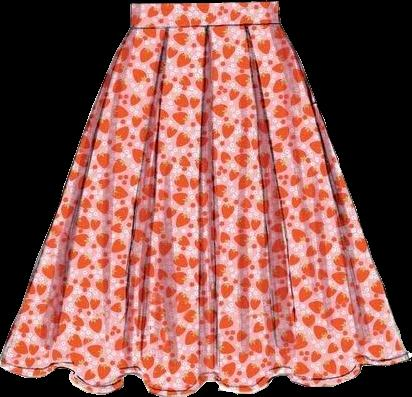Hemline: (0, 356, 411, 396)
Waistline: (129, 23, 282, 30), (129, 0, 279, 7)
